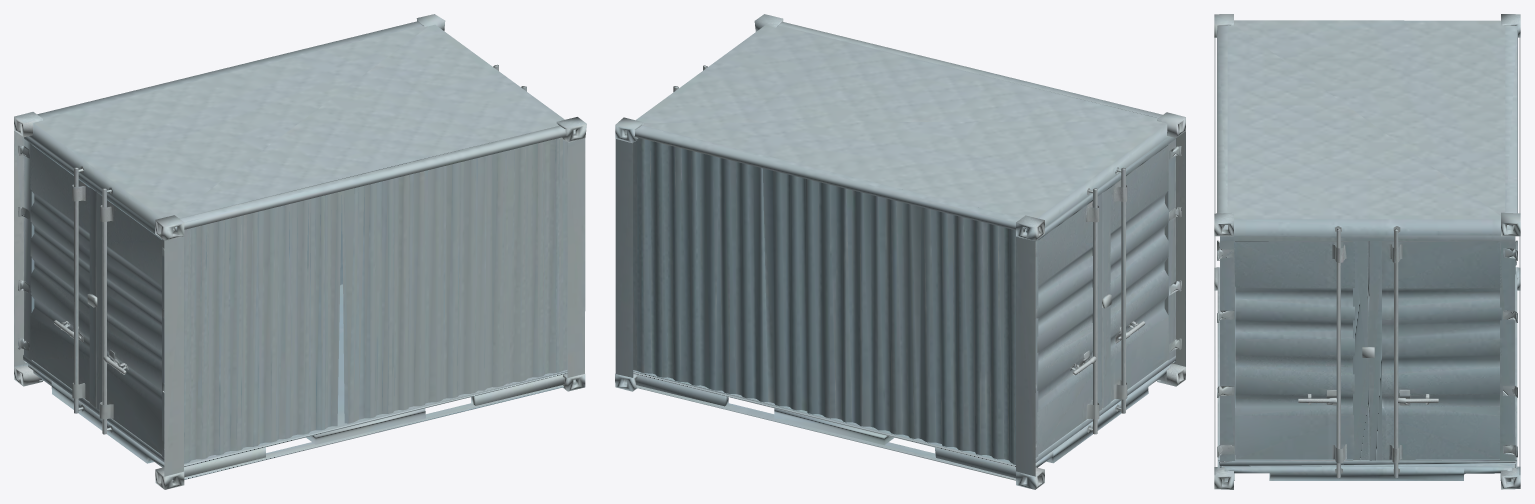
Rendered from container.glb.
3 views of the same model, side by side, from view 1: azimuth 30°, elevation 25°; view 2: azimuth 150°, elevation 25°; view 3: azimuth 270°, elevation 25° (orthographic).
Size of the model in its own units: 0.9502 by 0.5605 by 0.5826.
1 material, 1 textured.
